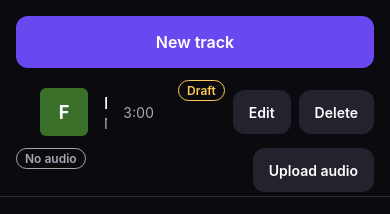
it: ArtistTracksScreen audio pipeline › NONE shows "Upload audio" and uploads the picked file, then polls to READY
Expected: the element with test id "artist-tracks-list" is shown, [0,76,389,197]
Click the button with test id "audio-upload-t1" at (313, 170), box [253,148,374,192]
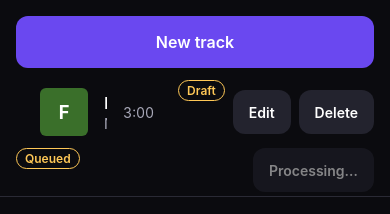
Expected: the element with test id "audio-status-t1" is shown, [16,148,80,169]
Result: the text "Queued" is shown at [25,151,71,166]
Result: the button with test id "audio-busy-t1" is shown at [253,148,374,192]
